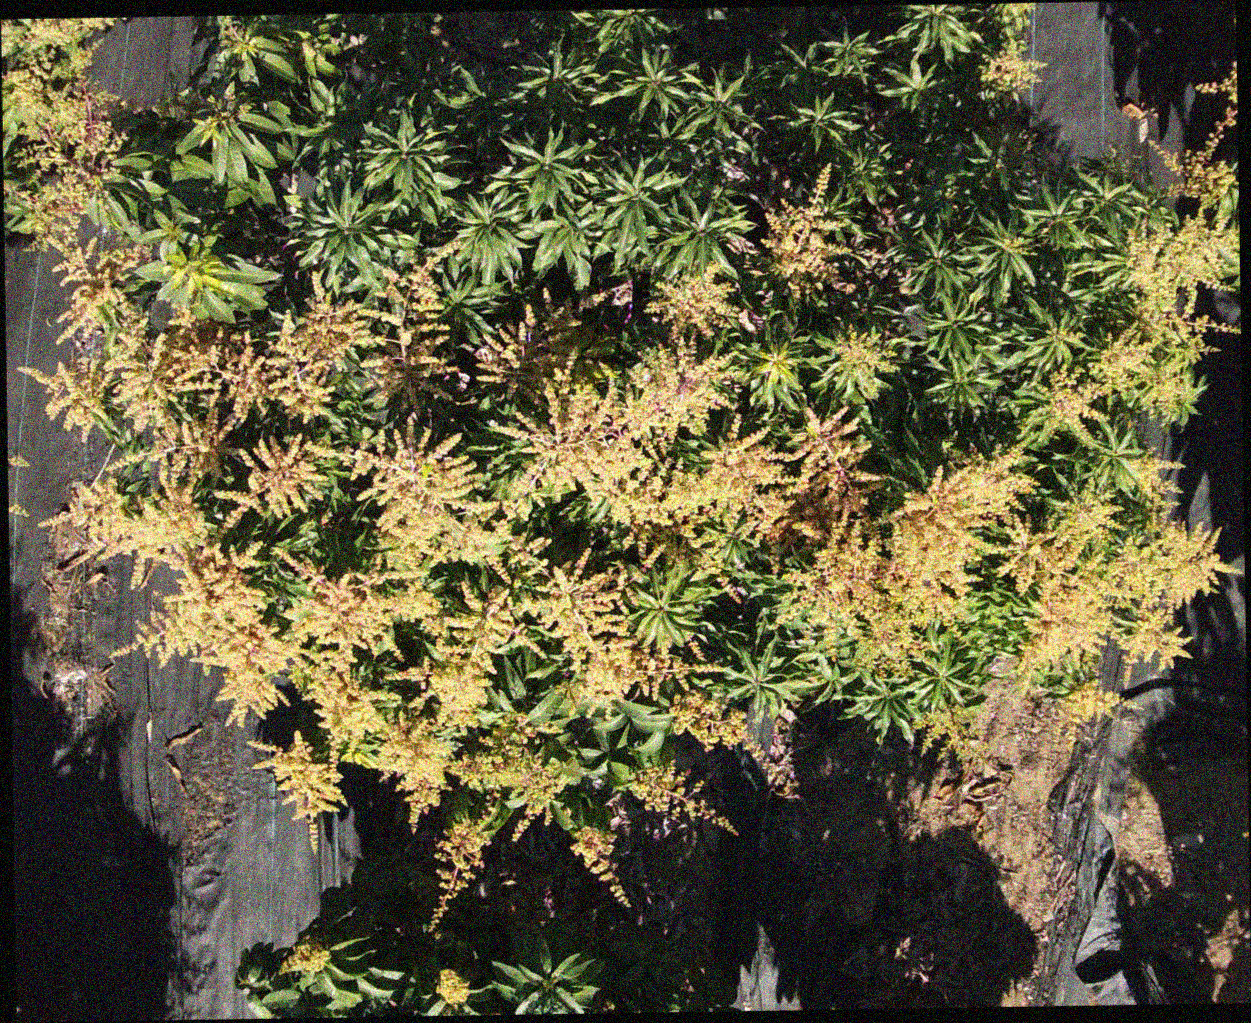flowers: (42, 242, 368, 556), (327, 264, 585, 590), (742, 406, 1032, 668), (960, 452, 1228, 683), (522, 347, 782, 567), (147, 544, 431, 742), (1048, 212, 1241, 434), (375, 586, 523, 811), (2, 18, 121, 249), (537, 549, 685, 705), (668, 688, 797, 799), (453, 714, 564, 837), (249, 729, 346, 852), (761, 199, 849, 296), (644, 262, 752, 339), (628, 759, 736, 835), (429, 813, 491, 930), (1156, 144, 1237, 209), (827, 325, 896, 398), (571, 825, 630, 906), (979, 41, 1047, 98), (1197, 60, 1237, 157), (1133, 450, 1178, 513), (1057, 679, 1122, 722), (216, 15, 256, 82), (280, 934, 331, 973), (435, 967, 470, 1005), (8, 502, 29, 516), (8, 453, 29, 467)
